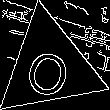O_N: (21, 35, 77, 98)
